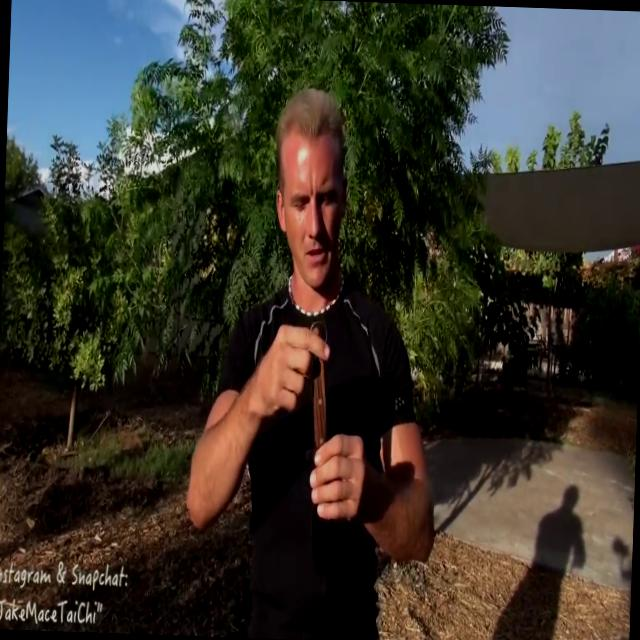knife: (291, 314, 351, 596)
